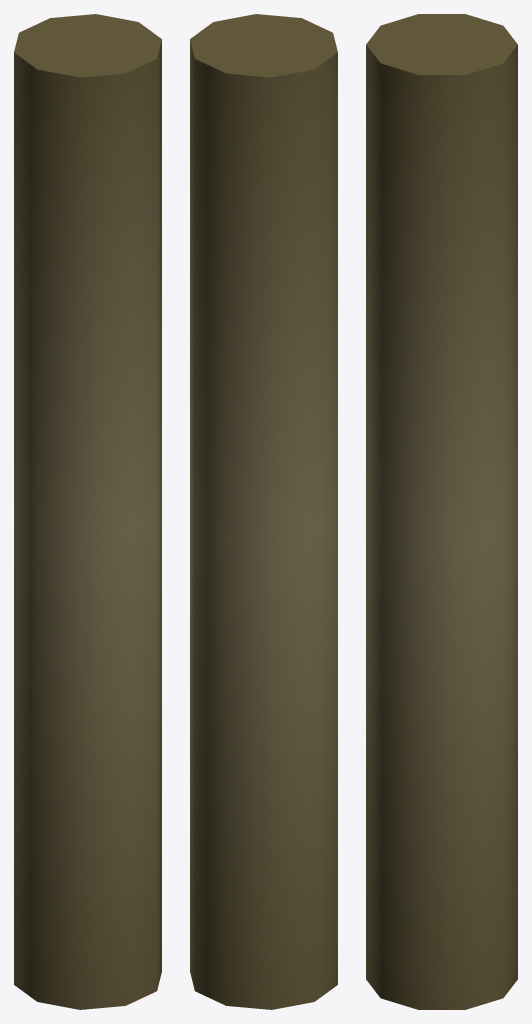
File: SM_PipiS_01.fbx
3 renders of one model, left to right at view 1: azimuth 30°, elevation 25°; view 2: azimuth 150°, elevation 25°; view 3: azimuth 270°, elevation 25°, orthographic.
Visible parts, largest first — view 1: SM_PipiS_01; view 2: SM_PipiS_01; view 3: SM_PipiS_01.
Part boxes in pixels (x1,y1,x2,y2): SM_PipiS_01: (14, 14, 161, 1009); SM_PipiS_01: (190, 14, 337, 1009); SM_PipiS_01: (366, 14, 517, 1009).
Bounding box in the file's own units: 0.107 × 0.1125 × 0.7651.
